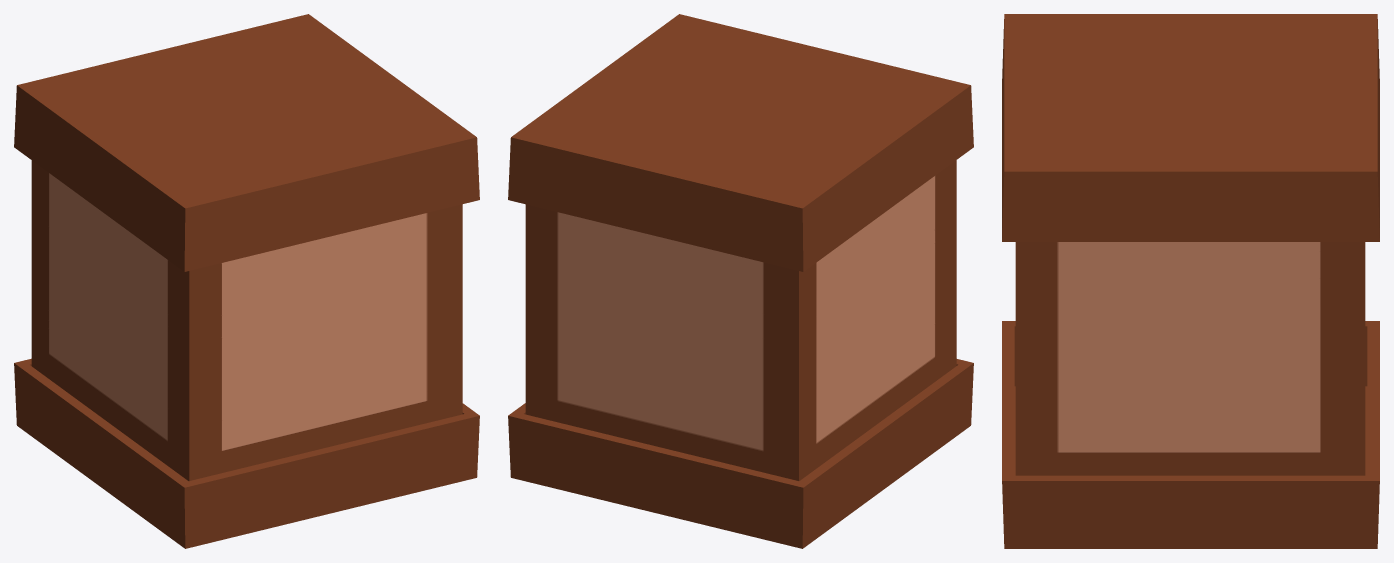
Rendered from Broken Crate 2.fbx.
3 renders of one model, left to right at view 1: azimuth 30°, elevation 25°; view 2: azimuth 150°, elevation 25°; view 3: azimuth 270°, elevation 25°, orthographic. The views are drawn at different scales.
Parts seen in each view (by area): view 1: Object001, Box003, Object002; view 2: Object001, Box003, Object002; view 3: Object001, Box003, Object002.
Part boxes in pixels (x1,y1,x2,y2): Object001: (14, 14, 479, 329); Box003: (31, 212, 462, 423); Object002: (14, 308, 479, 548); Object001: (508, 14, 973, 328); Box003: (525, 212, 956, 423); Object002: (508, 308, 973, 548); Object001: (1002, 14, 1379, 251); Box003: (1015, 251, 1365, 459); Object002: (1002, 321, 1379, 548).
Size of the model in its own units: 13.38 by 14.74 by 13.38.
